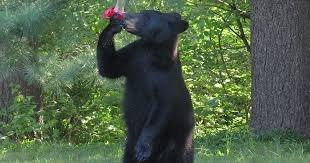bear: (96, 6, 195, 163)
